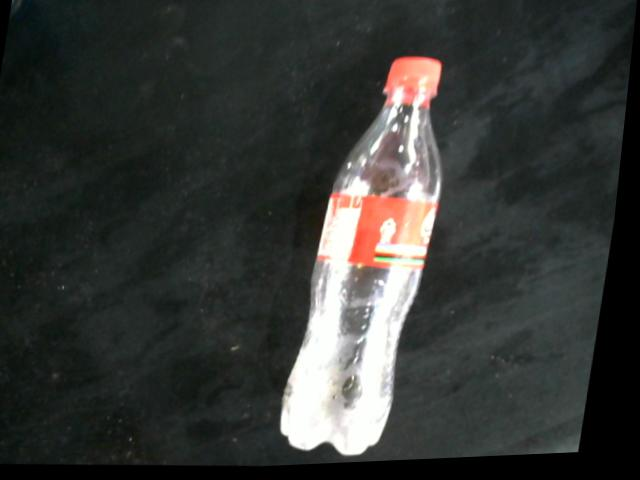bottle: (289, 59, 449, 460)
